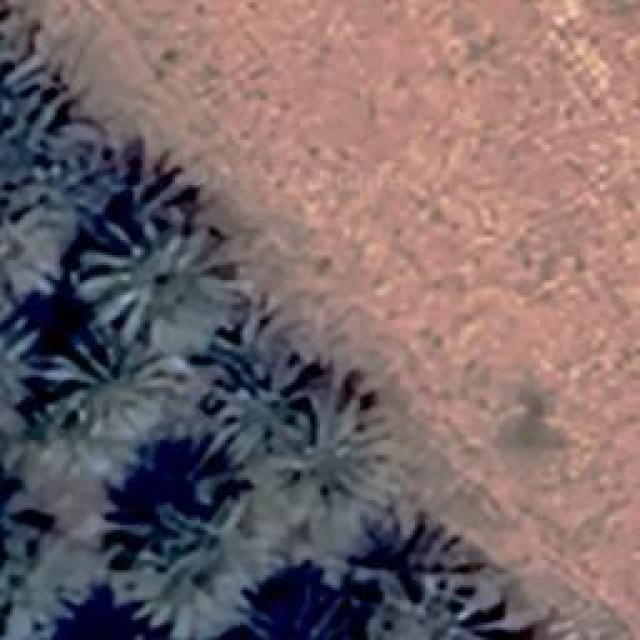PalmTree: (115, 118, 291, 614), (132, 52, 334, 466), (77, 205, 250, 345), (112, 464, 242, 592), (38, 328, 178, 440), (198, 352, 312, 470), (362, 568, 508, 638), (0, 472, 48, 630), (0, 26, 55, 149), (0, 193, 52, 309), (0, 302, 44, 413)
